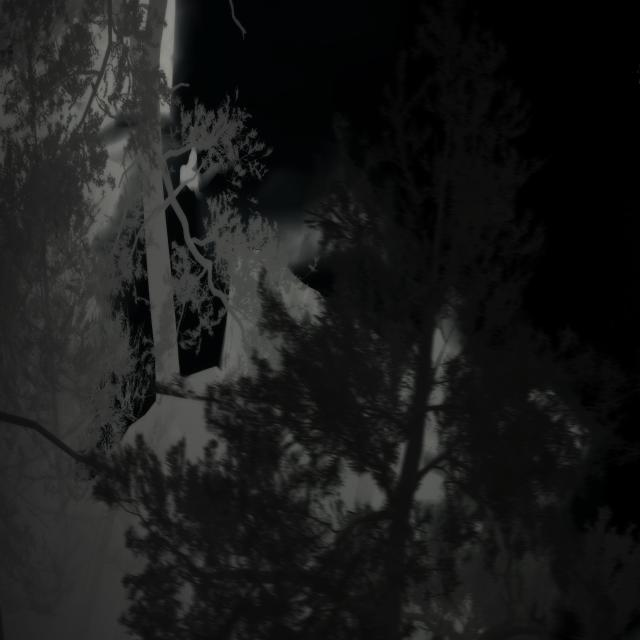Human: (178, 134, 236, 199)
